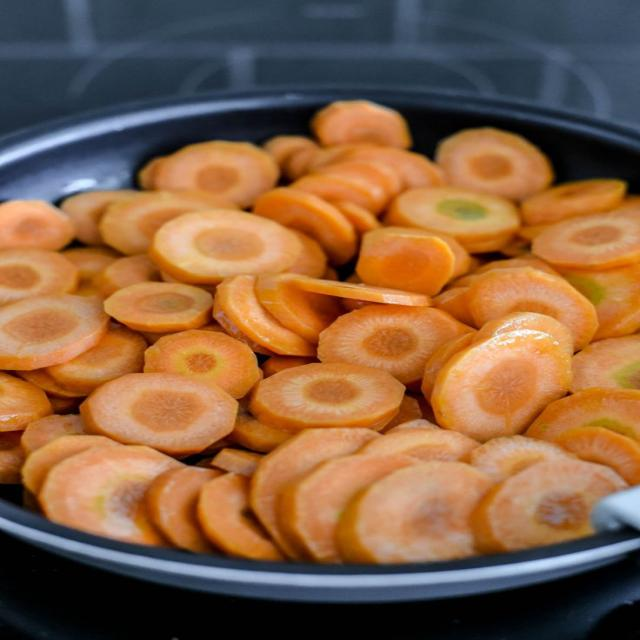carrot: (251, 429, 380, 557), (336, 462, 491, 563), (431, 330, 571, 441), (279, 455, 416, 562), (472, 459, 627, 552), (39, 447, 181, 545), (81, 373, 237, 455), (318, 305, 471, 385), (150, 210, 302, 284), (467, 268, 597, 350), (250, 363, 404, 431), (385, 187, 519, 252), (100, 191, 236, 254), (436, 128, 553, 199), (154, 141, 279, 207), (0, 294, 108, 369), (214, 276, 315, 356), (144, 330, 260, 398), (254, 188, 357, 264), (197, 474, 283, 560), (47, 323, 146, 394), (356, 227, 455, 295), (145, 466, 221, 552), (532, 212, 639, 270), (526, 388, 639, 441), (22, 435, 121, 495), (256, 275, 343, 343), (562, 264, 639, 340), (315, 145, 443, 188), (105, 283, 213, 332), (554, 427, 639, 484), (522, 179, 626, 225), (311, 101, 412, 148), (471, 435, 567, 482), (0, 249, 79, 305), (313, 161, 402, 210), (60, 190, 138, 245), (474, 312, 573, 354), (359, 428, 479, 462), (297, 277, 431, 307), (570, 335, 639, 392), (290, 174, 387, 214), (421, 332, 476, 399), (0, 201, 74, 250), (228, 405, 293, 452), (305, 143, 404, 173), (94, 255, 159, 297), (214, 314, 274, 356), (21, 415, 84, 454), (14, 368, 86, 400), (62, 246, 119, 283), (262, 135, 319, 170), (287, 228, 327, 277), (429, 232, 472, 277), (474, 254, 559, 275), (433, 286, 474, 326), (381, 394, 422, 433), (333, 201, 381, 233), (212, 448, 262, 476), (282, 146, 320, 181), (0, 431, 25, 484), (261, 356, 317, 377), (384, 417, 443, 434), (137, 156, 166, 190), (48, 395, 83, 415), (517, 224, 552, 243), (199, 437, 234, 456), (500, 236, 530, 258), (444, 273, 478, 292), (416, 394, 436, 425), (74, 281, 106, 300), (340, 298, 376, 311), (140, 332, 175, 345), (22, 490, 41, 513), (615, 194, 639, 212), (194, 457, 213, 469)
